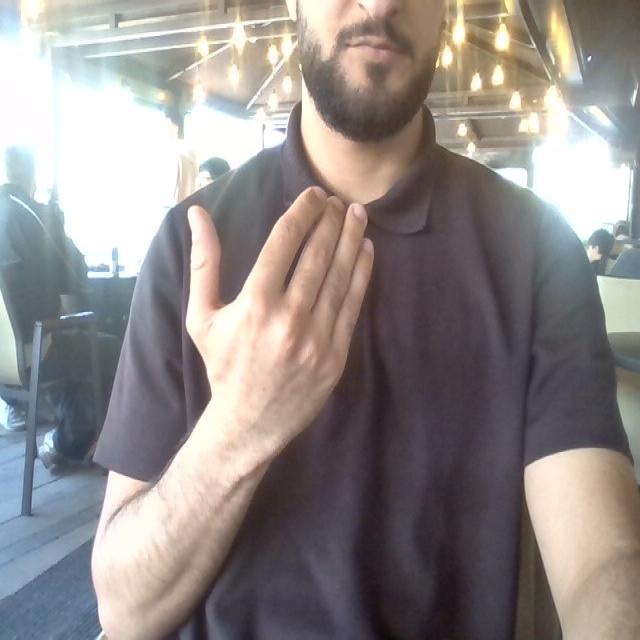Hand: (186, 187, 372, 454)
